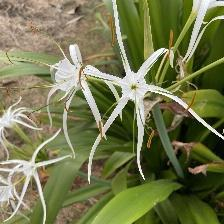spider lily: (85, 1, 224, 188)
